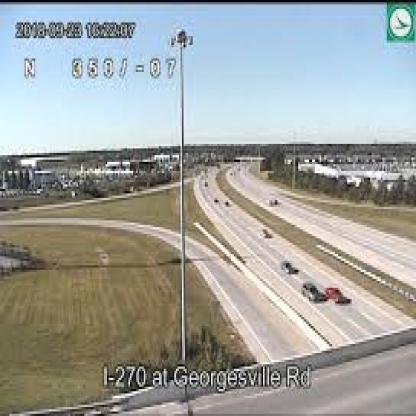car: (312, 276, 354, 318), (296, 273, 325, 314), (276, 259, 296, 284), (263, 224, 277, 254)
